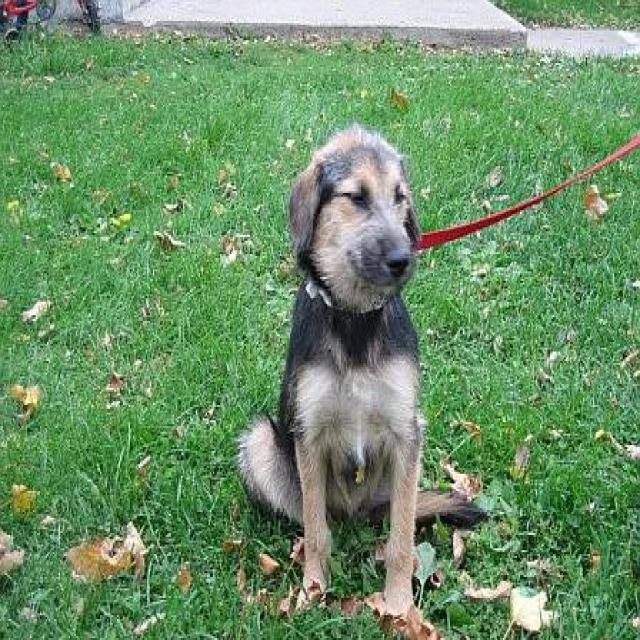dog: (234, 120, 486, 634)
